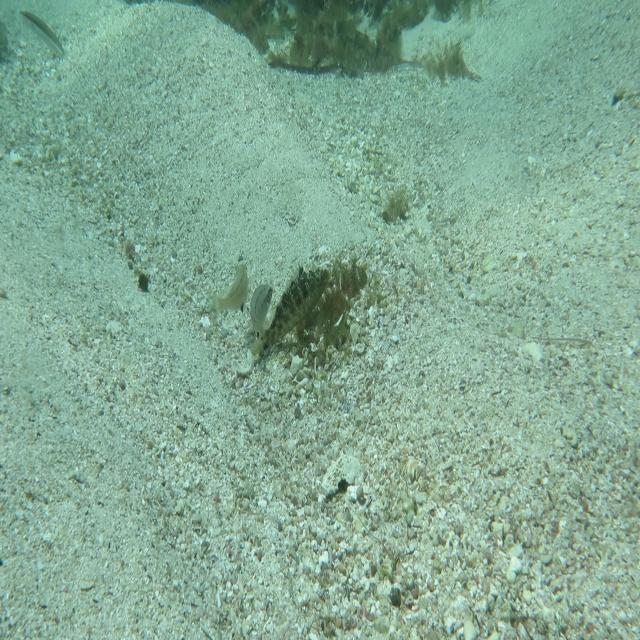Coris_julis_female: (16, 7, 72, 73)
ROLL: (249, 260, 332, 365)
female: (243, 282, 280, 346)
nest: (279, 255, 376, 370)
other_fish: (206, 255, 253, 328)
